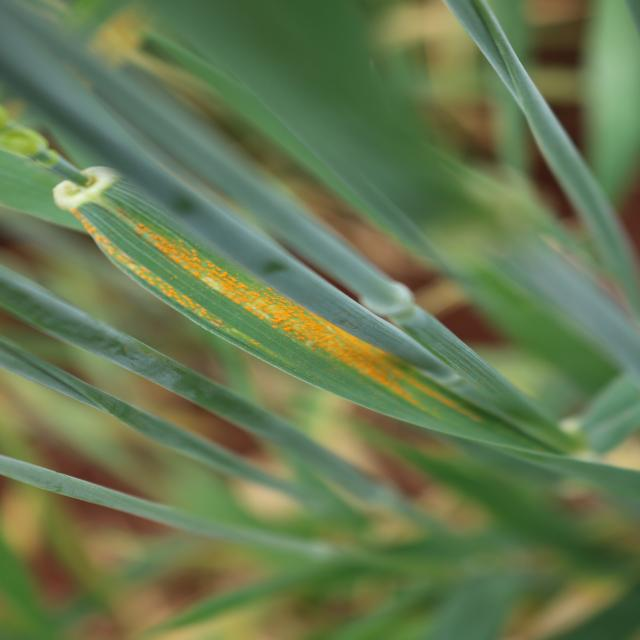Stripe Rust: (258, 308, 448, 422), (131, 221, 199, 273), (211, 266, 262, 306)
